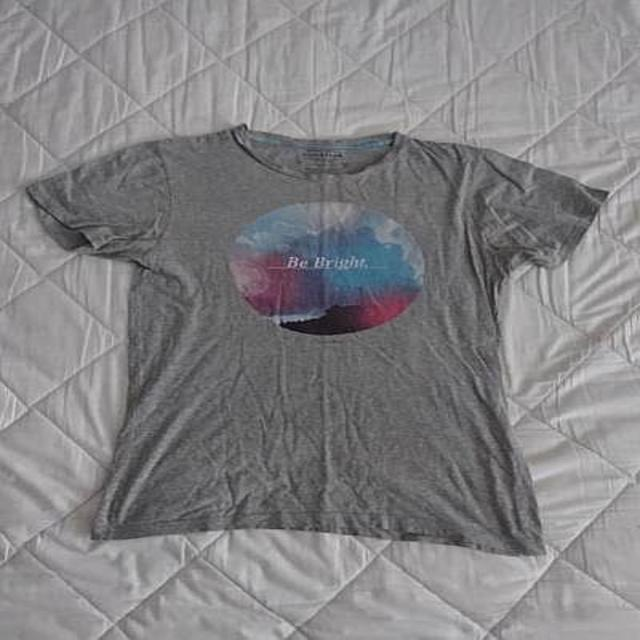T_SHIRT: (13, 114, 610, 573)
